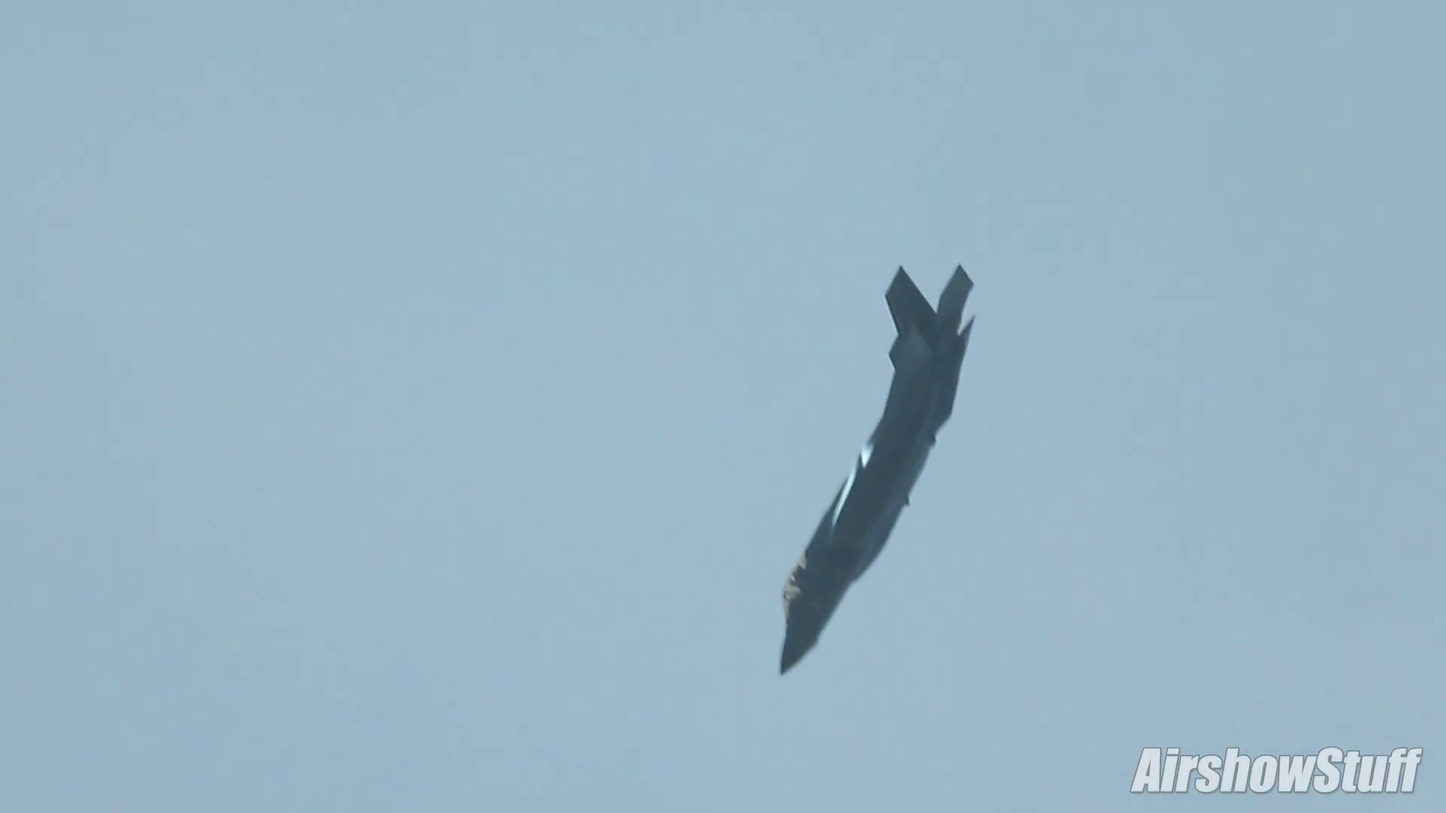F35: (772, 258, 981, 680)
